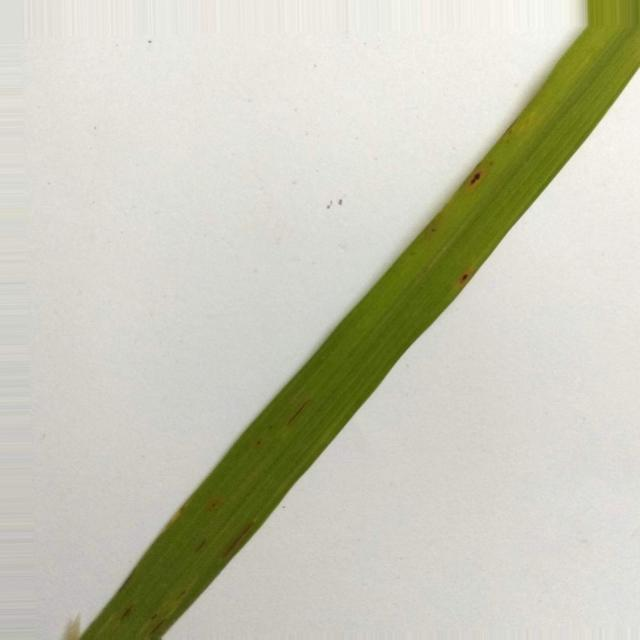Brown_Spot: (459, 272, 469, 284), (471, 172, 480, 183)
